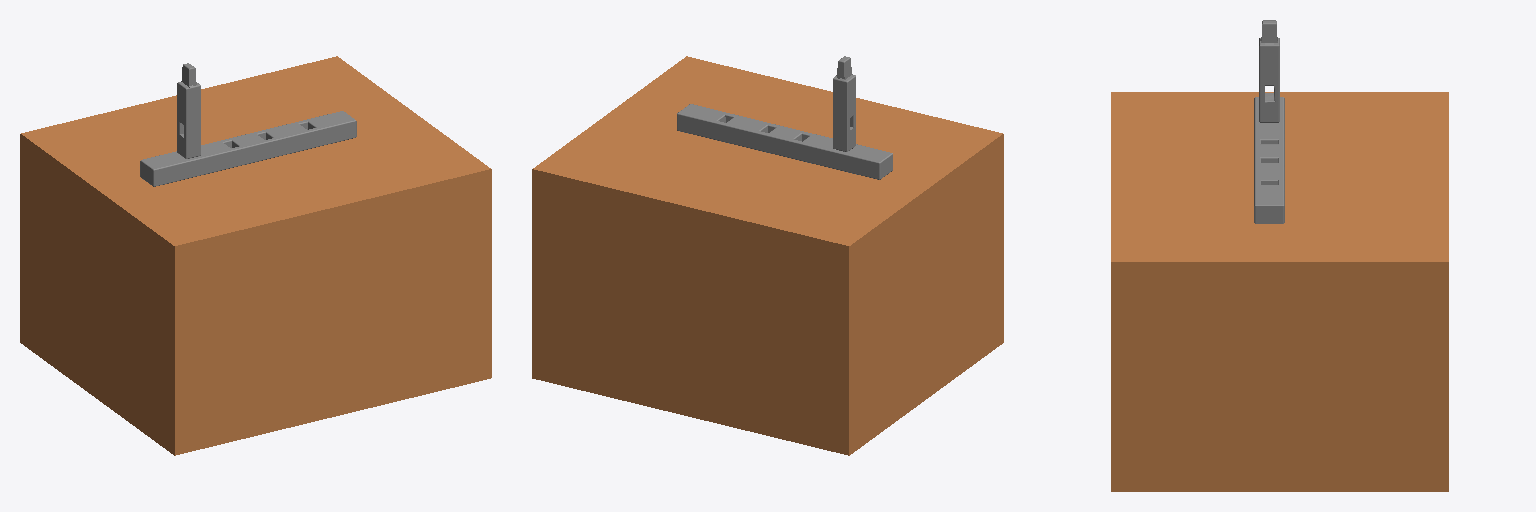
The robot description file, URDF, robot "table_beam_2x_0_scene_0083":
<?xml version="1.0"?>
<robot name="table_beam_2x_0_scene_0083">
  <link name="box">
    <visual>
      <material name="wood"><color rgba="0.82 0.56 0.35 1.0"/></material>
      <origin xyz="0 0 0"/>
      <geometry><box size="0.475 0.4 0.3"/></geometry>
    </visual>
    <collision>
      <origin xyz="0 0 0"/>
      <geometry><box size="0.475 0.4 0.3"/></geometry>
    </collision>
    <inertial>
      <mass value="500"/>
      <friction value="1.0"/>
      <inertia ixx="1000.0" ixy="0.0" ixz="0.0" iyy="1000.0" iyz="0.0" izz="1000.0"/>
    </inertial>
  </link>
  <link name="part_6_canonical">
    <visual>
      <origin xyz="0 0 0" rpy="0 0 0"/>
      <geometry><mesh filename="../../6/6_canonical.obj" scale="1 1 1"/></geometry>
      <material name="placed_0"><color rgba="0.6 0.6 0.6 1.0"/></material>
    </visual>
    <collision>
      <origin xyz="0 0 0" rpy="0 0 0"/>
      <geometry><mesh filename="../../6/6_canonical.obj" scale="1 1 1"/></geometry>
    </collision>
  </link>
  <joint name="part_6_canonical_joint" type="fixed">
    <parent link="box"/>
    <child link="part_6_canonical"/>
    <origin xyz="-0.018448 -0.012423 0.162666" rpy="0.000000 0.000000 0.000000"/>
  </joint>
  <link name="part_2_hull_0">
    <visual>
      <origin xyz="0 0 0" rpy="0 0 0"/>
      <geometry><mesh filename="../../2/coacd/decomp_0.obj" scale="1 1 1"/></geometry>
      <material name="placed_1"><color rgba="0.6 0.6 0.6 1.0"/></material>
    </visual>
    <collision>
      <origin xyz="0 0 0" rpy="0 0 0"/>
      <geometry><mesh filename="../../2/coacd/decomp_0.obj" scale="1 1 1"/></geometry>
    </collision>
  </link>
  <joint name="part_2_hull_0_joint" type="fixed">
    <parent link="box"/>
    <child link="part_2_hull_0"/>
    <origin xyz="-0.107374 -0.012423 0.225384" rpy="0.000000 -1.570796 0.000000"/>
  </joint>
  <link name="part_2_hull_1">
    <visual>
      <origin xyz="0 0 0" rpy="0 0 0"/>
      <geometry><mesh filename="../../2/coacd/decomp_1.obj" scale="1 1 1"/></geometry>
      <material name="placed_2"><color rgba="0.6 0.6 0.6 1.0"/></material>
    </visual>
    <collision>
      <origin xyz="0 0 0" rpy="0 0 0"/>
      <geometry><mesh filename="../../2/coacd/decomp_1.obj" scale="1 1 1"/></geometry>
    </collision>
  </link>
  <joint name="part_2_hull_1_joint" type="fixed">
    <parent link="box"/>
    <child link="part_2_hull_1"/>
    <origin xyz="-0.107374 -0.012423 0.225384" rpy="0.000000 -1.570796 0.000000"/>
  </joint>
  <link name="part_2_hull_2">
    <visual>
      <origin xyz="0 0 0" rpy="0 0 0"/>
      <geometry><mesh filename="../../2/coacd/decomp_10.obj" scale="1 1 1"/></geometry>
      <material name="placed_3"><color rgba="0.6 0.6 0.6 1.0"/></material>
    </visual>
    <collision>
      <origin xyz="0 0 0" rpy="0 0 0"/>
      <geometry><mesh filename="../../2/coacd/decomp_10.obj" scale="1 1 1"/></geometry>
    </collision>
  </link>
  <joint name="part_2_hull_2_joint" type="fixed">
    <parent link="box"/>
    <child link="part_2_hull_2"/>
    <origin xyz="-0.107374 -0.012423 0.225384" rpy="0.000000 -1.570796 0.000000"/>
  </joint>
  <link name="part_2_hull_3">
    <visual>
      <origin xyz="0 0 0" rpy="0 0 0"/>
      <geometry><mesh filename="../../2/coacd/decomp_11.obj" scale="1 1 1"/></geometry>
      <material name="placed_4"><color rgba="0.6 0.6 0.6 1.0"/></material>
    </visual>
    <collision>
      <origin xyz="0 0 0" rpy="0 0 0"/>
      <geometry><mesh filename="../../2/coacd/decomp_11.obj" scale="1 1 1"/></geometry>
    </collision>
  </link>
  <joint name="part_2_hull_3_joint" type="fixed">
    <parent link="box"/>
    <child link="part_2_hull_3"/>
    <origin xyz="-0.107374 -0.012423 0.225384" rpy="0.000000 -1.570796 0.000000"/>
  </joint>
  <link name="part_2_hull_4">
    <visual>
      <origin xyz="0 0 0" rpy="0 0 0"/>
      <geometry><mesh filename="../../2/coacd/decomp_12.obj" scale="1 1 1"/></geometry>
      <material name="placed_5"><color rgba="0.6 0.6 0.6 1.0"/></material>
    </visual>
    <collision>
      <origin xyz="0 0 0" rpy="0 0 0"/>
      <geometry><mesh filename="../../2/coacd/decomp_12.obj" scale="1 1 1"/></geometry>
    </collision>
  </link>
  <joint name="part_2_hull_4_joint" type="fixed">
    <parent link="box"/>
    <child link="part_2_hull_4"/>
    <origin xyz="-0.107374 -0.012423 0.225384" rpy="0.000000 -1.570796 0.000000"/>
  </joint>
  <link name="part_2_hull_5">
    <visual>
      <origin xyz="0 0 0" rpy="0 0 0"/>
      <geometry><mesh filename="../../2/coacd/decomp_13.obj" scale="1 1 1"/></geometry>
      <material name="placed_6"><color rgba="0.6 0.6 0.6 1.0"/></material>
    </visual>
    <collision>
      <origin xyz="0 0 0" rpy="0 0 0"/>
      <geometry><mesh filename="../../2/coacd/decomp_13.obj" scale="1 1 1"/></geometry>
    </collision>
  </link>
  <joint name="part_2_hull_5_joint" type="fixed">
    <parent link="box"/>
    <child link="part_2_hull_5"/>
    <origin xyz="-0.107374 -0.012423 0.225384" rpy="0.000000 -1.570796 0.000000"/>
  </joint>
  <link name="part_2_hull_6">
    <visual>
      <origin xyz="0 0 0" rpy="0 0 0"/>
      <geometry><mesh filename="../../2/coacd/decomp_14.obj" scale="1 1 1"/></geometry>
      <material name="placed_7"><color rgba="0.6 0.6 0.6 1.0"/></material>
    </visual>
    <collision>
      <origin xyz="0 0 0" rpy="0 0 0"/>
      <geometry><mesh filename="../../2/coacd/decomp_14.obj" scale="1 1 1"/></geometry>
    </collision>
  </link>
  <joint name="part_2_hull_6_joint" type="fixed">
    <parent link="box"/>
    <child link="part_2_hull_6"/>
    <origin xyz="-0.107374 -0.012423 0.225384" rpy="0.000000 -1.570796 0.000000"/>
  </joint>
  <link name="part_2_hull_7">
    <visual>
      <origin xyz="0 0 0" rpy="0 0 0"/>
      <geometry><mesh filename="../../2/coacd/decomp_15.obj" scale="1 1 1"/></geometry>
      <material name="placed_8"><color rgba="0.6 0.6 0.6 1.0"/></material>
    </visual>
    <collision>
      <origin xyz="0 0 0" rpy="0 0 0"/>
      <geometry><mesh filename="../../2/coacd/decomp_15.obj" scale="1 1 1"/></geometry>
    </collision>
  </link>
  <joint name="part_2_hull_7_joint" type="fixed">
    <parent link="box"/>
    <child link="part_2_hull_7"/>
    <origin xyz="-0.107374 -0.012423 0.225384" rpy="0.000000 -1.570796 0.000000"/>
  </joint>
  <link name="part_2_hull_8">
    <visual>
      <origin xyz="0 0 0" rpy="0 0 0"/>
      <geometry><mesh filename="../../2/coacd/decomp_2.obj" scale="1 1 1"/></geometry>
      <material name="placed_9"><color rgba="0.6 0.6 0.6 1.0"/></material>
    </visual>
    <collision>
      <origin xyz="0 0 0" rpy="0 0 0"/>
      <geometry><mesh filename="../../2/coacd/decomp_2.obj" scale="1 1 1"/></geometry>
    </collision>
  </link>
  <joint name="part_2_hull_8_joint" type="fixed">
    <parent link="box"/>
    <child link="part_2_hull_8"/>
    <origin xyz="-0.107374 -0.012423 0.225384" rpy="0.000000 -1.570796 0.000000"/>
  </joint>
  <link name="part_2_hull_9">
    <visual>
      <origin xyz="0 0 0" rpy="0 0 0"/>
      <geometry><mesh filename="../../2/coacd/decomp_3.obj" scale="1 1 1"/></geometry>
      <material name="placed_10"><color rgba="0.6 0.6 0.6 1.0"/></material>
    </visual>
    <collision>
      <origin xyz="0 0 0" rpy="0 0 0"/>
      <geometry><mesh filename="../../2/coacd/decomp_3.obj" scale="1 1 1"/></geometry>
    </collision>
  </link>
  <joint name="part_2_hull_9_joint" type="fixed">
    <parent link="box"/>
    <child link="part_2_hull_9"/>
    <origin xyz="-0.107374 -0.012423 0.225384" rpy="0.000000 -1.570796 0.000000"/>
  </joint>
  <link name="part_2_hull_10">
    <visual>
      <origin xyz="0 0 0" rpy="0 0 0"/>
      <geometry><mesh filename="../../2/coacd/decomp_4.obj" scale="1 1 1"/></geometry>
      <material name="placed_11"><color rgba="0.6 0.6 0.6 1.0"/></material>
    </visual>
    <collision>
      <origin xyz="0 0 0" rpy="0 0 0"/>
      <geometry><mesh filename="../../2/coacd/decomp_4.obj" scale="1 1 1"/></geometry>
    </collision>
  </link>
  <joint name="part_2_hull_10_joint" type="fixed">
    <parent link="box"/>
    <child link="part_2_hull_10"/>
    <origin xyz="-0.107374 -0.012423 0.225384" rpy="0.000000 -1.570796 0.000000"/>
  </joint>
  <link name="part_2_hull_11">
    <visual>
      <origin xyz="0 0 0" rpy="0 0 0"/>
      <geometry><mesh filename="../../2/coacd/decomp_5.obj" scale="1 1 1"/></geometry>
      <material name="placed_12"><color rgba="0.6 0.6 0.6 1.0"/></material>
    </visual>
    <collision>
      <origin xyz="0 0 0" rpy="0 0 0"/>
      <geometry><mesh filename="../../2/coacd/decomp_5.obj" scale="1 1 1"/></geometry>
    </collision>
  </link>
  <joint name="part_2_hull_11_joint" type="fixed">
    <parent link="box"/>
    <child link="part_2_hull_11"/>
    <origin xyz="-0.107374 -0.012423 0.225384" rpy="0.000000 -1.570796 0.000000"/>
  </joint>
  <link name="part_2_hull_12">
    <visual>
      <origin xyz="0 0 0" rpy="0 0 0"/>
      <geometry><mesh filename="../../2/coacd/decomp_6.obj" scale="1 1 1"/></geometry>
      <material name="placed_13"><color rgba="0.6 0.6 0.6 1.0"/></material>
    </visual>
    <collision>
      <origin xyz="0 0 0" rpy="0 0 0"/>
      <geometry><mesh filename="../../2/coacd/decomp_6.obj" scale="1 1 1"/></geometry>
    </collision>
  </link>
  <joint name="part_2_hull_12_joint" type="fixed">
    <parent link="box"/>
    <child link="part_2_hull_12"/>
    <origin xyz="-0.107374 -0.012423 0.225384" rpy="0.000000 -1.570796 0.000000"/>
  </joint>
  <link name="part_2_hull_13">
    <visual>
      <origin xyz="0 0 0" rpy="0 0 0"/>
      <geometry><mesh filename="../../2/coacd/decomp_7.obj" scale="1 1 1"/></geometry>
      <material name="placed_14"><color rgba="0.6 0.6 0.6 1.0"/></material>
    </visual>
    <collision>
      <origin xyz="0 0 0" rpy="0 0 0"/>
      <geometry><mesh filename="../../2/coacd/decomp_7.obj" scale="1 1 1"/></geometry>
    </collision>
  </link>
  <joint name="part_2_hull_13_joint" type="fixed">
    <parent link="box"/>
    <child link="part_2_hull_13"/>
    <origin xyz="-0.107374 -0.012423 0.225384" rpy="0.000000 -1.570796 0.000000"/>
  </joint>
  <link name="part_2_hull_14">
    <visual>
      <origin xyz="0 0 0" rpy="0 0 0"/>
      <geometry><mesh filename="../../2/coacd/decomp_8.obj" scale="1 1 1"/></geometry>
      <material name="placed_15"><color rgba="0.6 0.6 0.6 1.0"/></material>
    </visual>
    <collision>
      <origin xyz="0 0 0" rpy="0 0 0"/>
      <geometry><mesh filename="../../2/coacd/decomp_8.obj" scale="1 1 1"/></geometry>
    </collision>
  </link>
  <joint name="part_2_hull_14_joint" type="fixed">
    <parent link="box"/>
    <child link="part_2_hull_14"/>
    <origin xyz="-0.107374 -0.012423 0.225384" rpy="0.000000 -1.570796 0.000000"/>
  </joint>
  <link name="part_2_hull_15">
    <visual>
      <origin xyz="0 0 0" rpy="0 0 0"/>
      <geometry><mesh filename="../../2/coacd/decomp_9.obj" scale="1 1 1"/></geometry>
      <material name="placed_16"><color rgba="0.6 0.6 0.6 1.0"/></material>
    </visual>
    <collision>
      <origin xyz="0 0 0" rpy="0 0 0"/>
      <geometry><mesh filename="../../2/coacd/decomp_9.obj" scale="1 1 1"/></geometry>
    </collision>
  </link>
  <joint name="part_2_hull_15_joint" type="fixed">
    <parent link="box"/>
    <child link="part_2_hull_15"/>
    <origin xyz="-0.107374 -0.012423 0.225384" rpy="0.000000 -1.570796 0.000000"/>
  </joint>
</robot>

--- What the picture shows (computed from the rendered views, not written in the file) ---
The picture shows the robot from 3 angles, left to right: view 1: azimuth 30°, elevation 25°; view 2: azimuth 150°, elevation 25°; view 3: azimuth 270°, elevation 25°; orthographic projection.
Model table_beam_2x_0_scene_0083 with 18 links and 17 joints (17 fixed), rooted at box, posed all joints at 0.
Visible links, largest first — view 1: box, part_6_canonical, part_2_hull_1; view 2: box, part_6_canonical; view 3: box, part_6_canonical.
Link boxes in pixels (x1=…): box: x1=20, y1=56, x2=491, y2=455; part_6_canonical: x1=140, y1=111, x2=356, y2=186; part_2_hull_1: x1=177, y1=82, x2=189, y2=126; box: x1=532, y1=56, x2=1003, y2=455; part_6_canonical: x1=677, y1=104, x2=892, y2=179; box: x1=1111, y1=92, x2=1448, y2=491; part_6_canonical: x1=1254, y1=97, x2=1284, y2=223.
Bounding box of the posed robot: 0.475 × 0.4 × 0.4524 m (x, y, z).
17 mesh visuals loaded from 17 distinct referenced files (17 OBJ).
